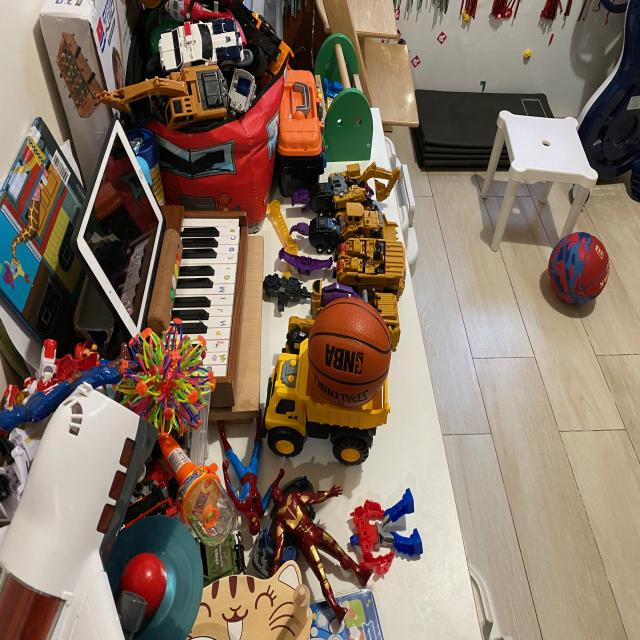Ball: (299, 286, 398, 418)
